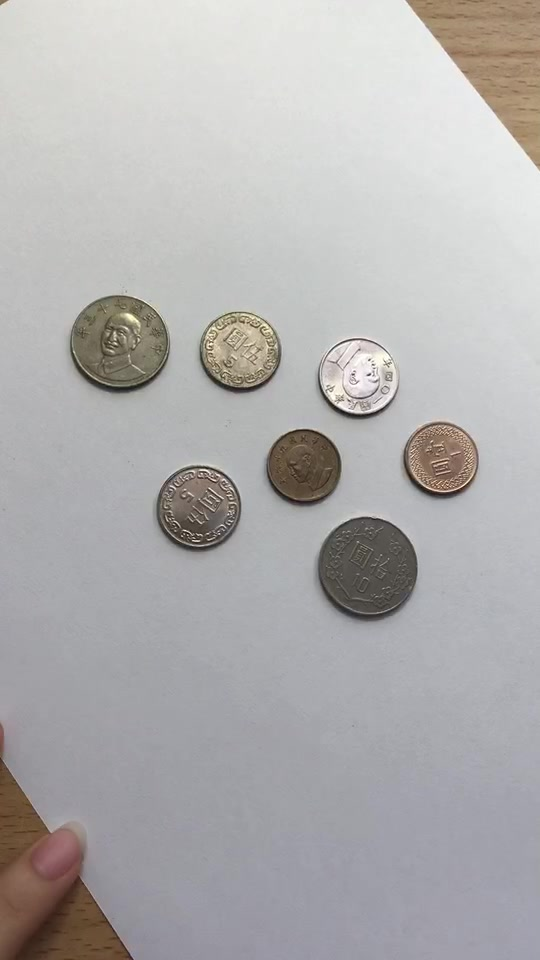1 dallar: (255, 422, 348, 514), (395, 419, 488, 511)
10 dallar: (62, 285, 177, 393), (309, 512, 424, 620)
5 dallar: (147, 455, 247, 553), (190, 305, 290, 403), (308, 327, 408, 425)
